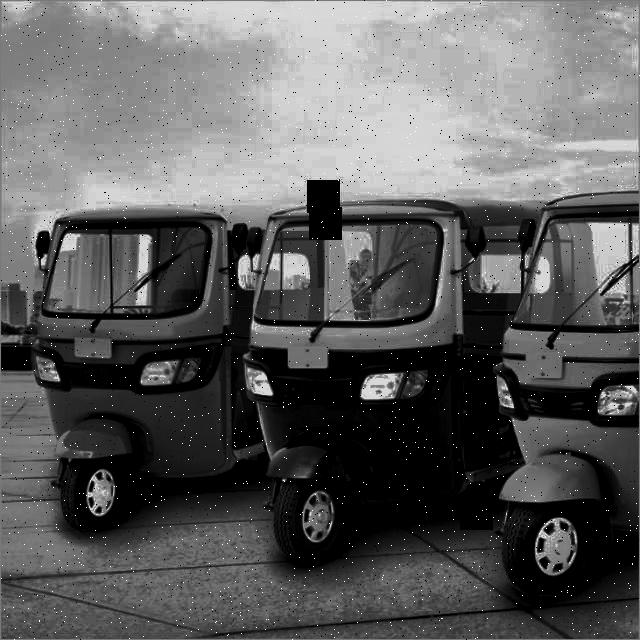Auto-Rickshaw: (239, 196, 501, 564), (31, 193, 256, 531), (485, 190, 640, 604)
